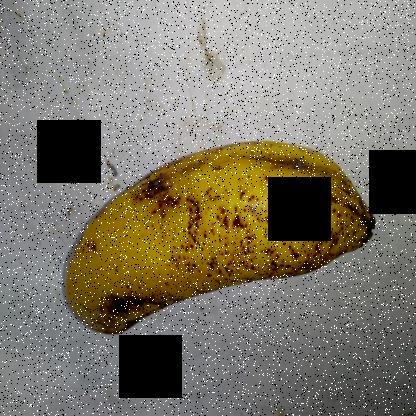rotten: (247, 115, 355, 208), (67, 280, 166, 360), (136, 147, 184, 211)
